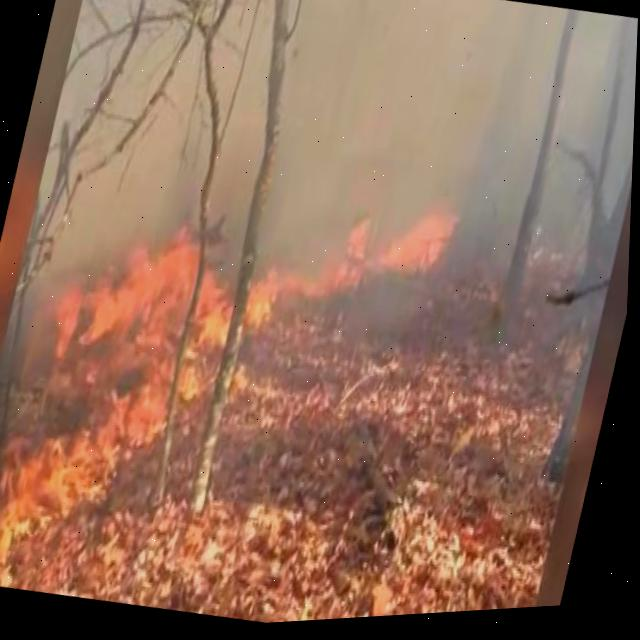fire: (0, 196, 584, 627)
smoke: (259, 0, 568, 285), (50, 35, 211, 278), (537, 18, 627, 265), (41, 0, 139, 205), (211, 0, 276, 263), (90, 0, 184, 156), (605, 31, 638, 221), (214, 0, 259, 118), (200, 0, 218, 8)
